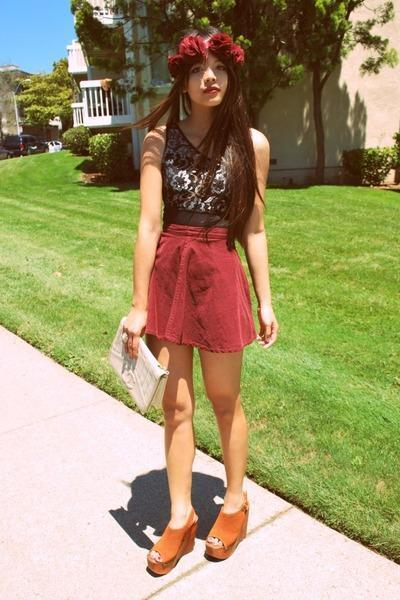bag: (108, 348, 168, 410)
shirt: (161, 139, 239, 222)
shoe: (133, 505, 248, 577)
skirt: (143, 204, 273, 356)
